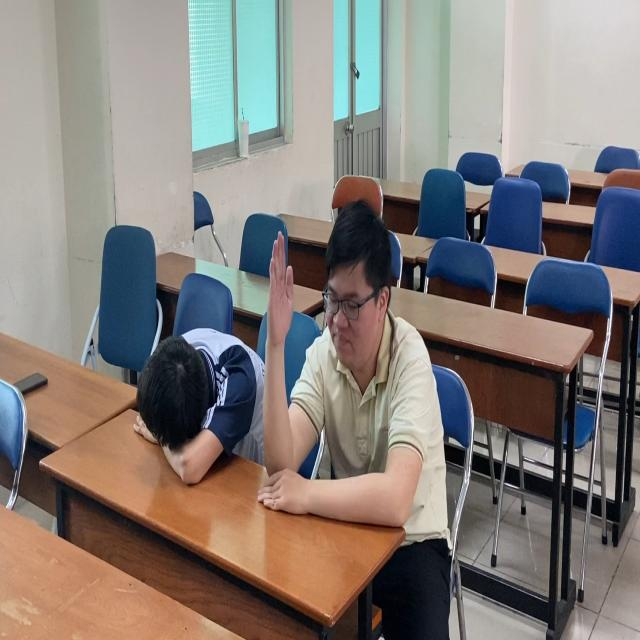raise_hand: (246, 188, 483, 581)
sleep: (103, 320, 329, 509)
